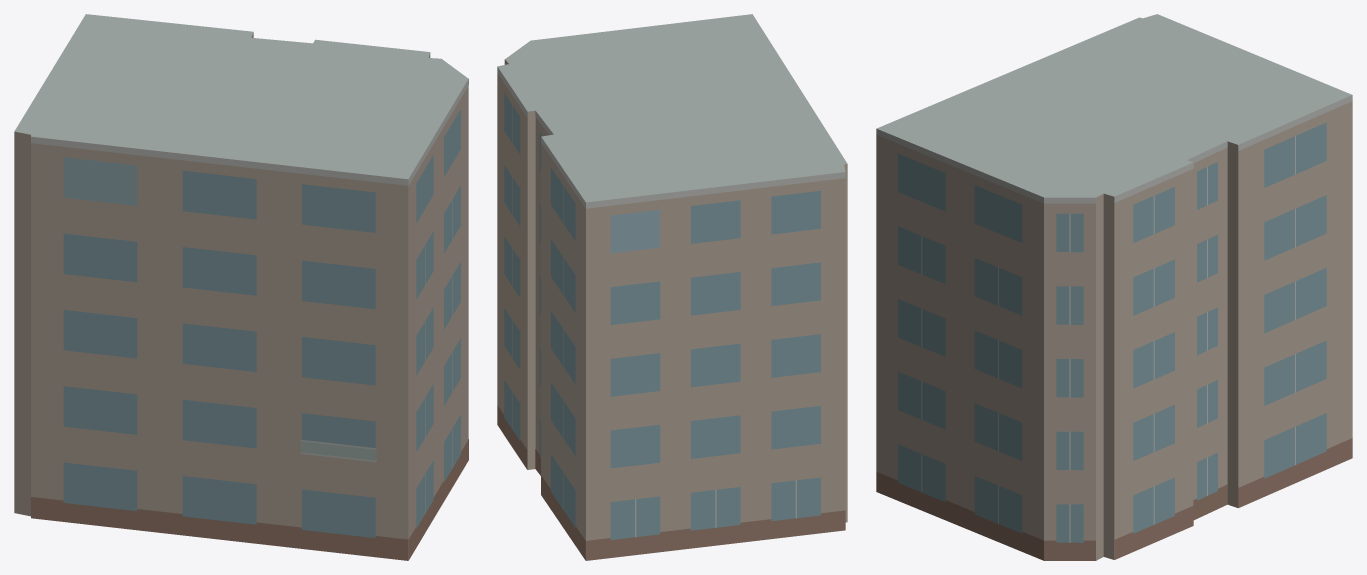
File: survey-upis-32722322.glb
The picture shows the model from 3 angles, left to right: view 1: azimuth 30°, elevation 25°; view 2: azimuth 150°, elevation 25°; view 3: azimuth 270°, elevation 25°; orthographic projection. The views are drawn at different scales.
Visible parts, largest first — view 1: survey-upis-32722322.tmp; view 2: survey-upis-32722322.tmp; view 3: survey-upis-32722322.tmp.
Boxes of the visible parts, x1,y1,x2,y2 form: survey-upis-32722322.tmp: (14,14,468,560); survey-upis-32722322.tmp: (497,14,847,560); survey-upis-32722322.tmp: (876,14,1352,560).
Size of the model in its own units: 15.45 by 14.25 by 16.93.
